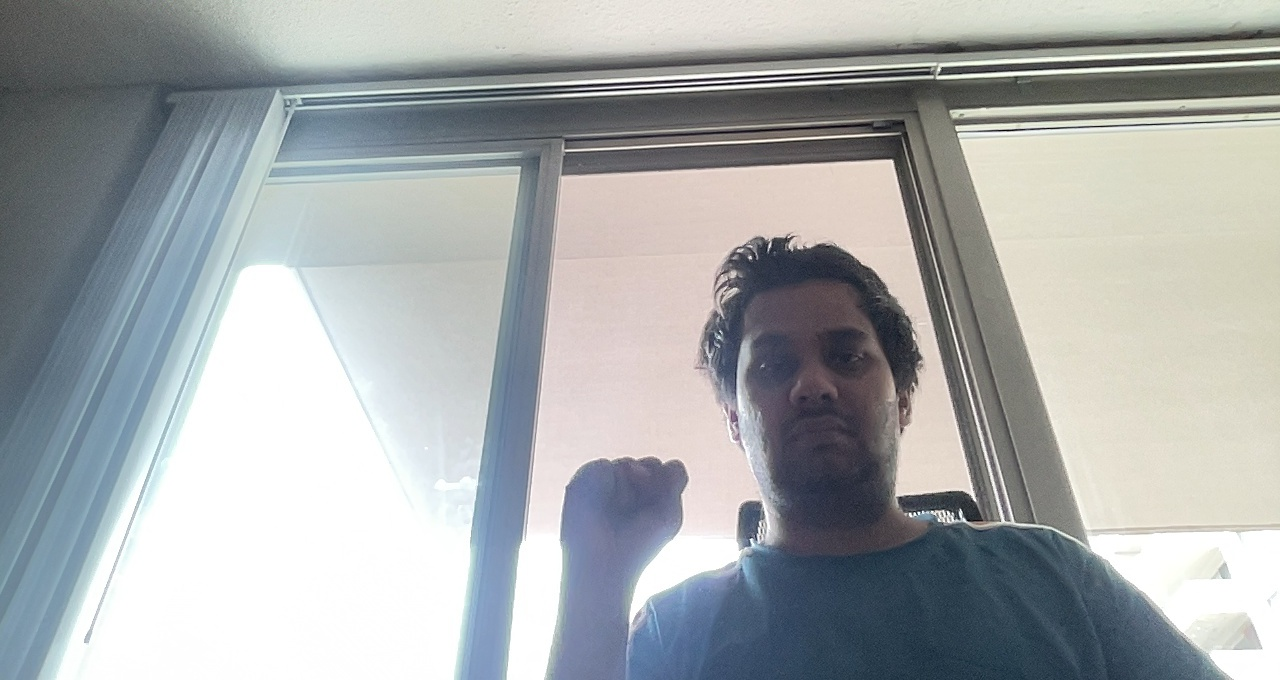closedfist: (555, 449, 693, 566)
